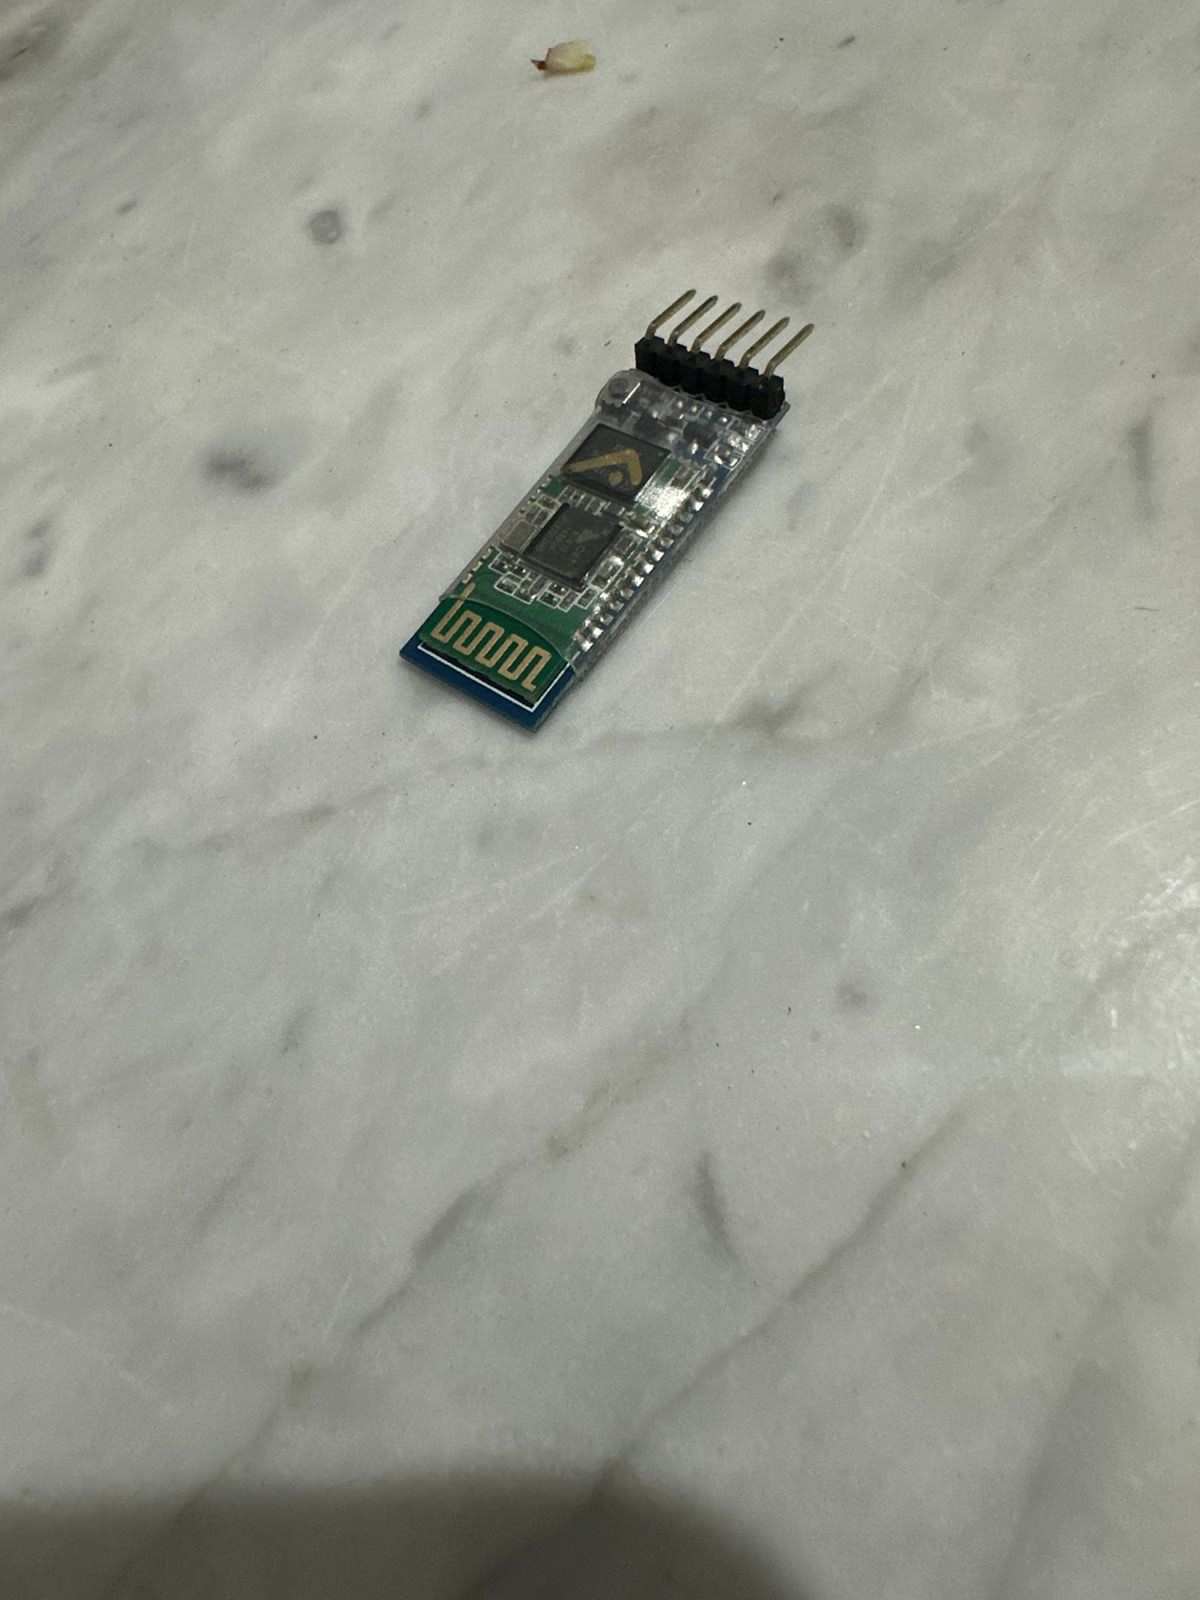module-bluetooth: (396, 265, 816, 727)
